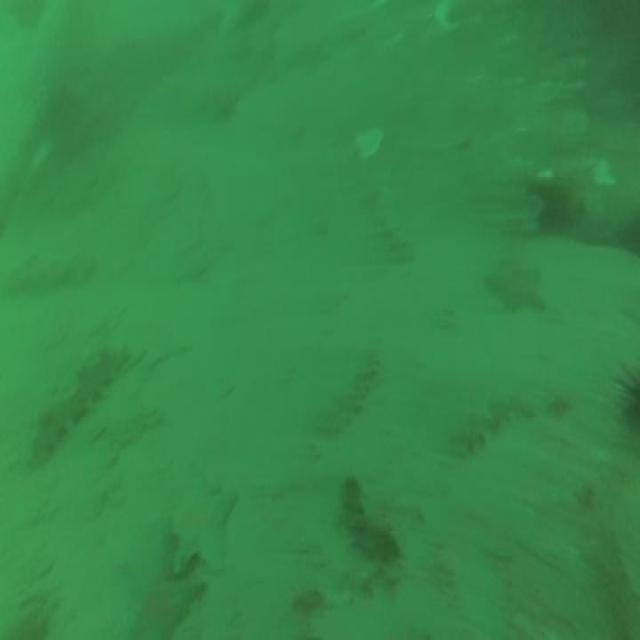holothurian: (27, 345, 125, 455), (318, 348, 382, 436), (447, 394, 534, 458)
scallop: (352, 126, 385, 162)
starfish: (122, 567, 206, 640), (168, 488, 239, 572), (484, 258, 545, 318)
